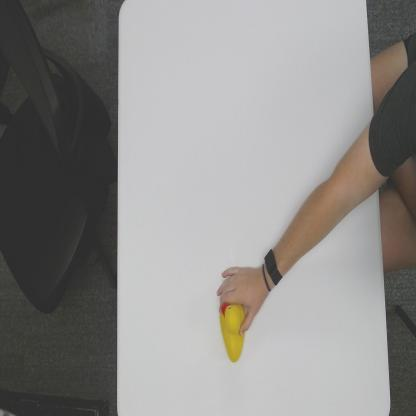Arm: (284, 125, 378, 281)
Duck: (218, 301, 246, 364)
Hand: (215, 264, 265, 337)
